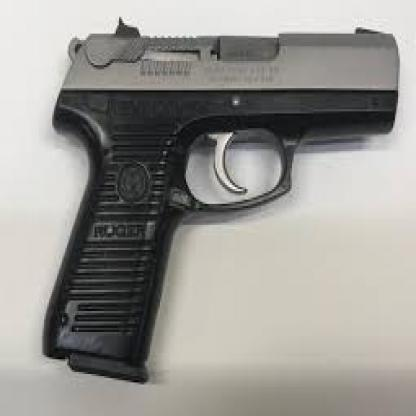Pistol: (36, 17, 400, 380)
